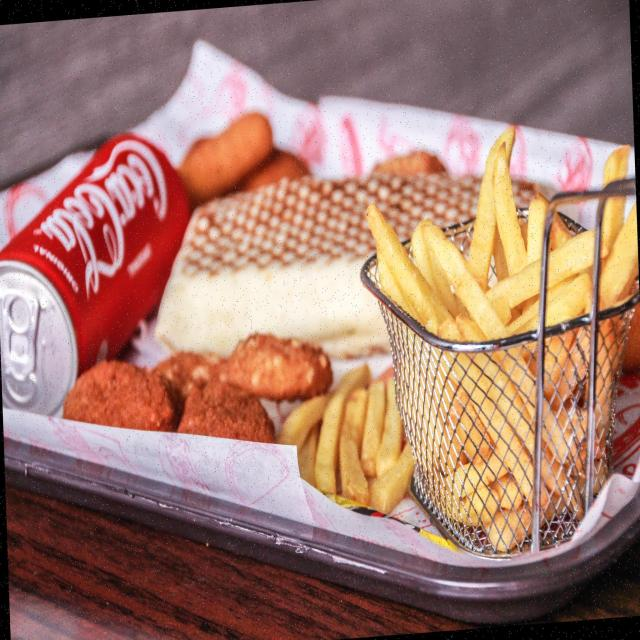coca-cola: (26, 129, 174, 307)
